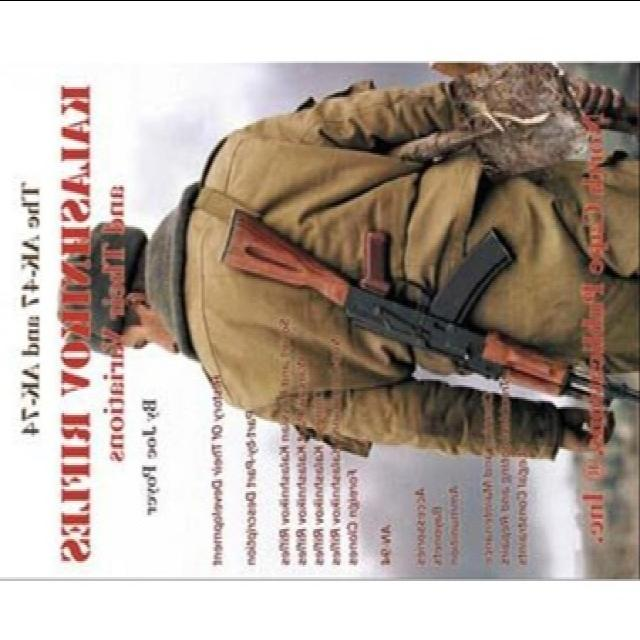rifle: (209, 189, 623, 441)
